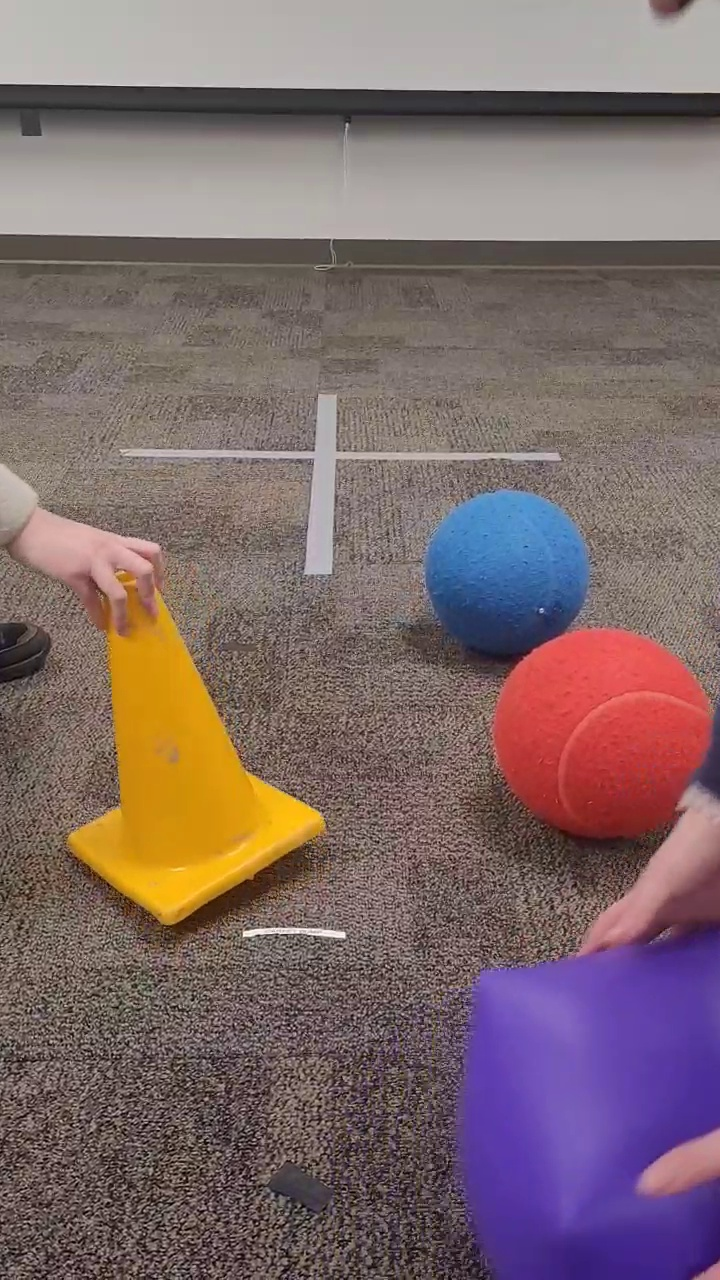ball: (488, 627, 718, 851), (423, 484, 594, 661)
cone: (59, 562, 329, 933)
cube: (459, 938, 718, 1276)
face: (644, 1, 694, 25)
foot: (1, 611, 60, 685)
hand: (571, 684, 720, 962), (1, 456, 169, 637), (632, 1119, 718, 1278)
